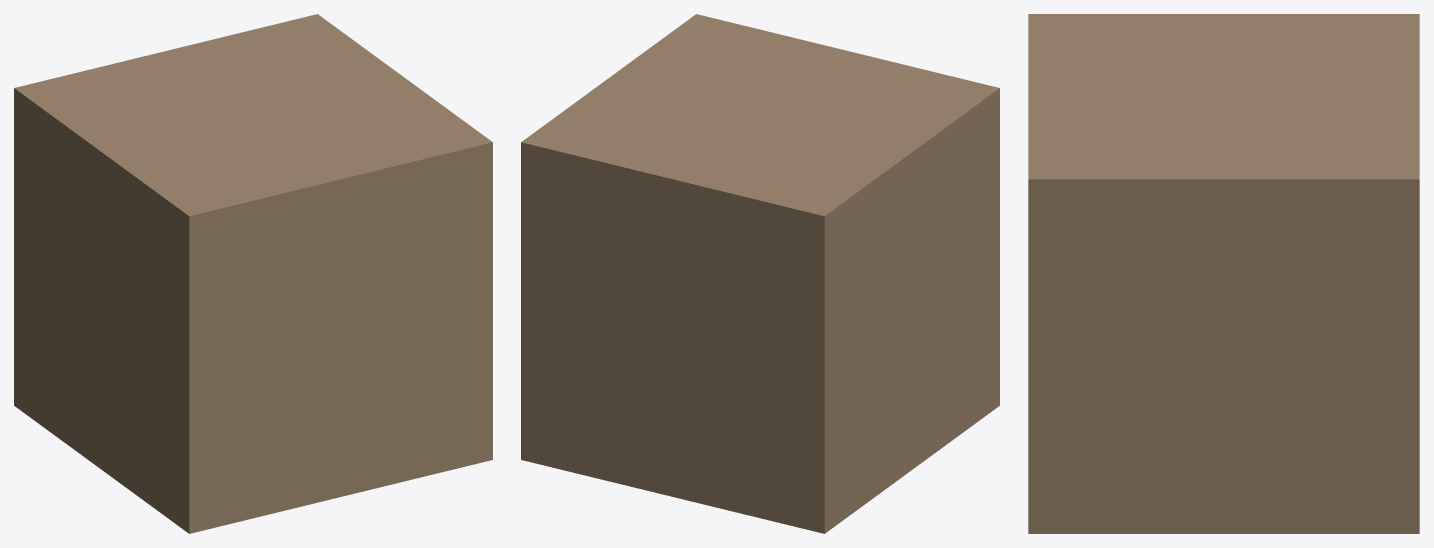
The model's file is 43_tilled_soil.glb.
3 renders of one model, left to right at view 1: azimuth 30°, elevation 25°; view 2: azimuth 150°, elevation 25°; view 3: azimuth 270°, elevation 25°, orthographic. The views are drawn at different scales.
Visible parts, largest first — view 1: Core; view 2: Core; view 3: Core.
Boxes of the visible parts, x1,y1,x2,y2 form: Core: (14,14,492,533); Core: (521,14,999,533); Core: (1028,14,1419,533).
Bounding box in the file's own units: 1 × 1 × 1.
